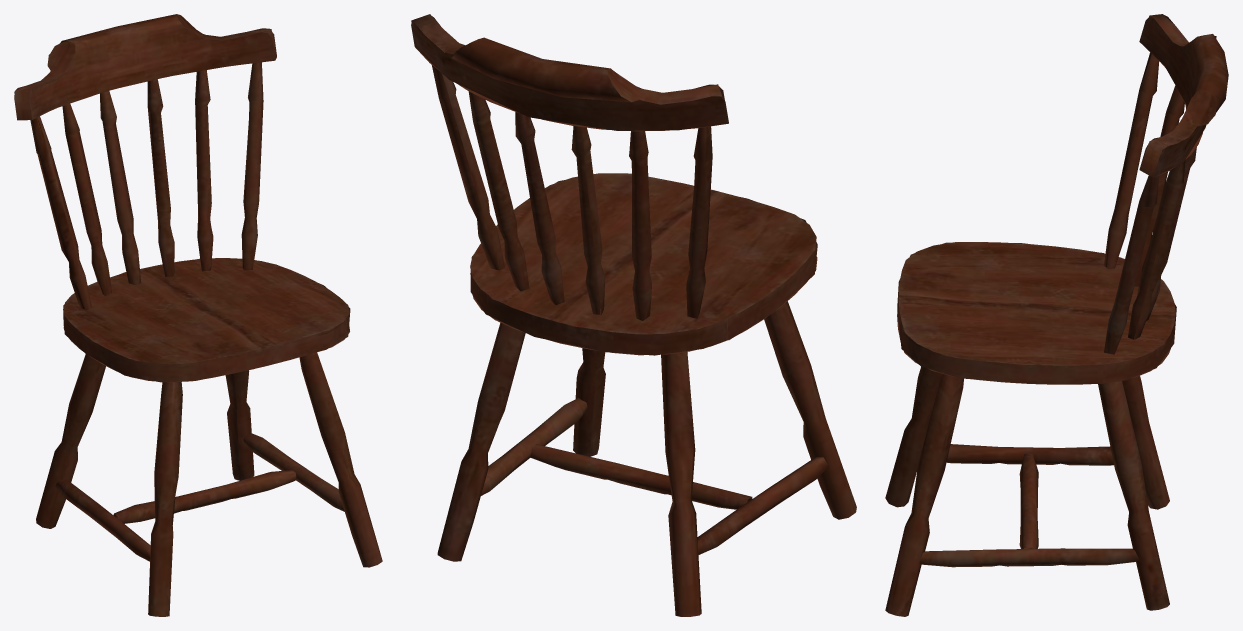
File: chair-9.glb
3 renders of one model, left to right at view 1: azimuth 30°, elevation 25°; view 2: azimuth 150°, elevation 25°; view 3: azimuth 270°, elevation 25°, orthographic. The views are drawn at different scales.
Parts seen in each view (by area): view 1: Object_3; view 2: Object_3; view 3: Object_3.
Boxes of the visible parts, left/top/right/bottom form: Object_3: left=14, top=14, right=382, bottom=616; Object_3: left=411, top=14, right=856, bottom=616; Object_3: left=885, top=14, right=1228, bottom=616.
Size of the model in its own units: 5.29 by 8.92 by 5.59.
1 material, 1 textured.
